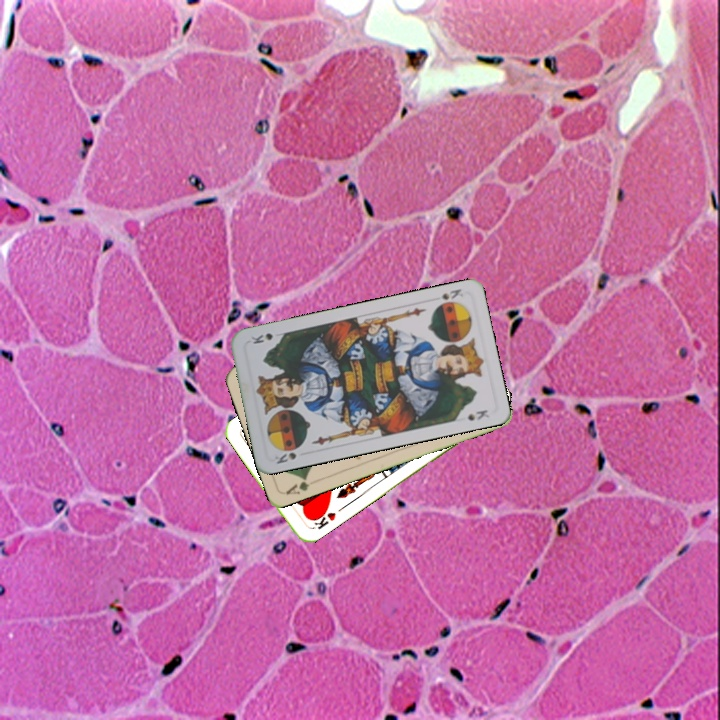GA: (281, 472, 312, 497)
HK: (306, 504, 338, 532)
SK: (436, 284, 466, 302), (271, 448, 299, 466)
